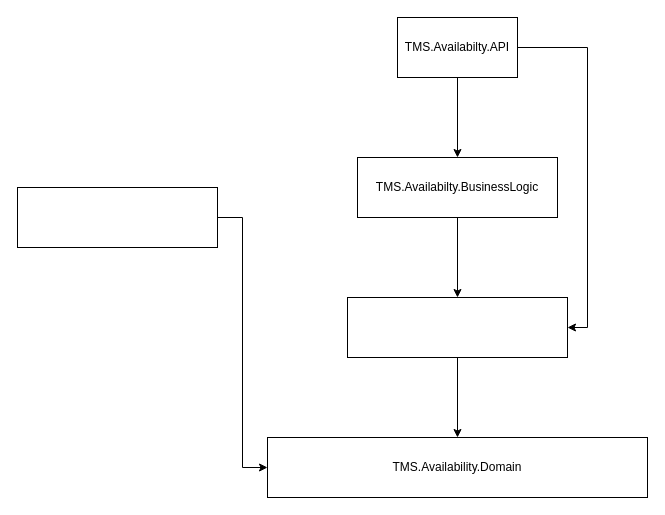
Image size: 665x515. Some labels were removed from this diagram. Here are the shapes that lost their labels. From the top down, the centre of each, then its label:
point 117,217: TMS.Availabilty.Client
point 457,327: TMS.Availability.DataAccess
